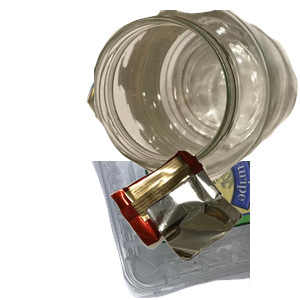glass: (94, 10, 300, 184)
metal: (84, 53, 279, 202)
plastic: (23, 161, 263, 300)
trash: (107, 148, 300, 300)
